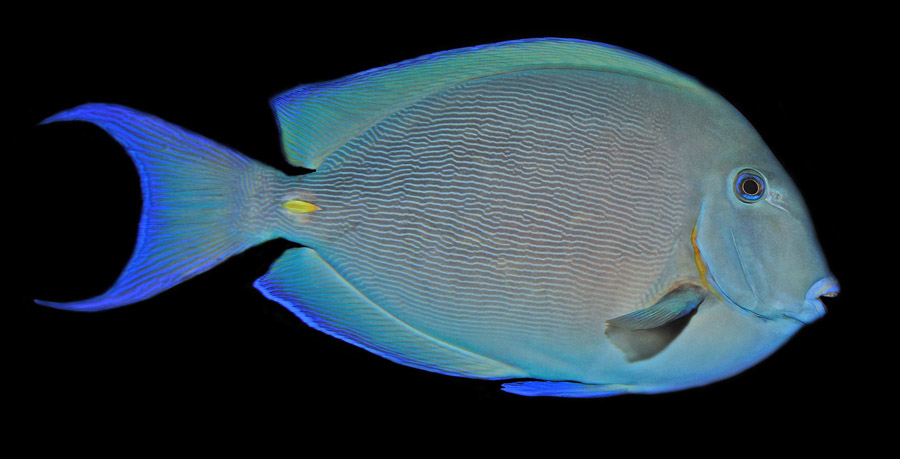Acanthurus_coeruleus: (23, 32, 841, 402)
